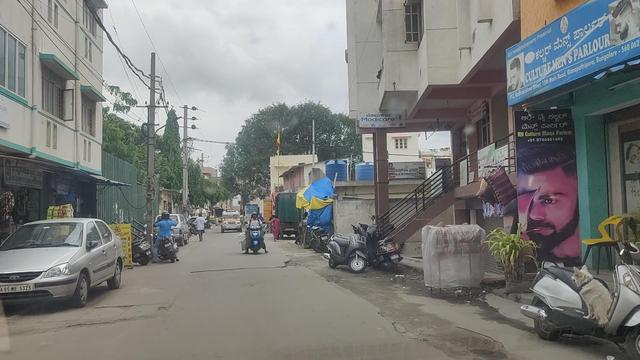LMV: (1, 222, 124, 301), (156, 208, 176, 264), (247, 211, 263, 252)
RoadDamages: (427, 334, 520, 360), (86, 299, 171, 325), (190, 258, 302, 275), (379, 308, 418, 339), (318, 273, 345, 291)
